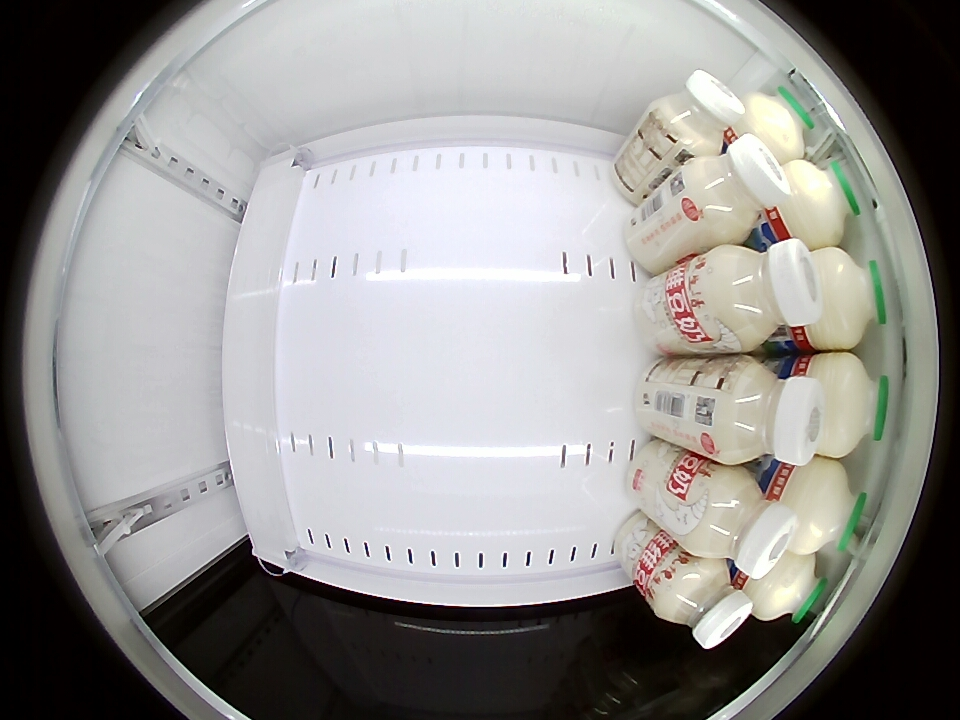liziyuan: (795, 247, 889, 352), (800, 353, 887, 458), (772, 460, 868, 555), (765, 159, 860, 248), (745, 551, 827, 624), (733, 90, 811, 162)
weiweidounai: (705, 238, 823, 352), (710, 356, 827, 467), (682, 466, 797, 578), (680, 133, 788, 243), (652, 555, 752, 650), (652, 69, 745, 156)
